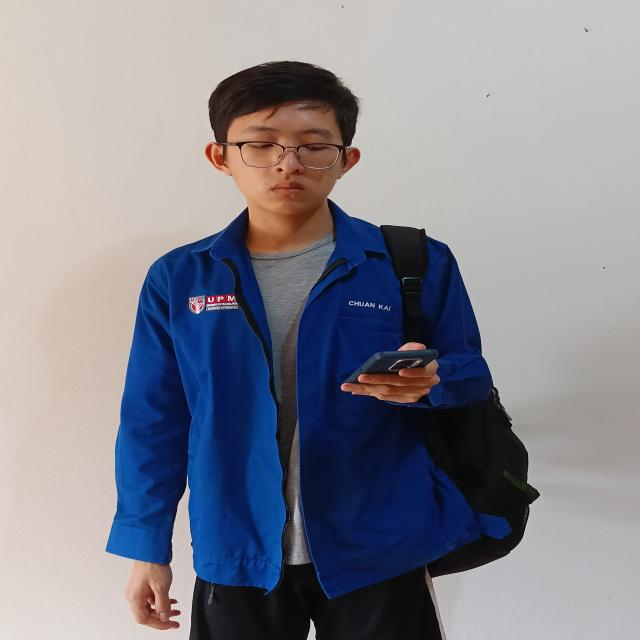person_with_labcoat: (107, 62, 539, 640)
